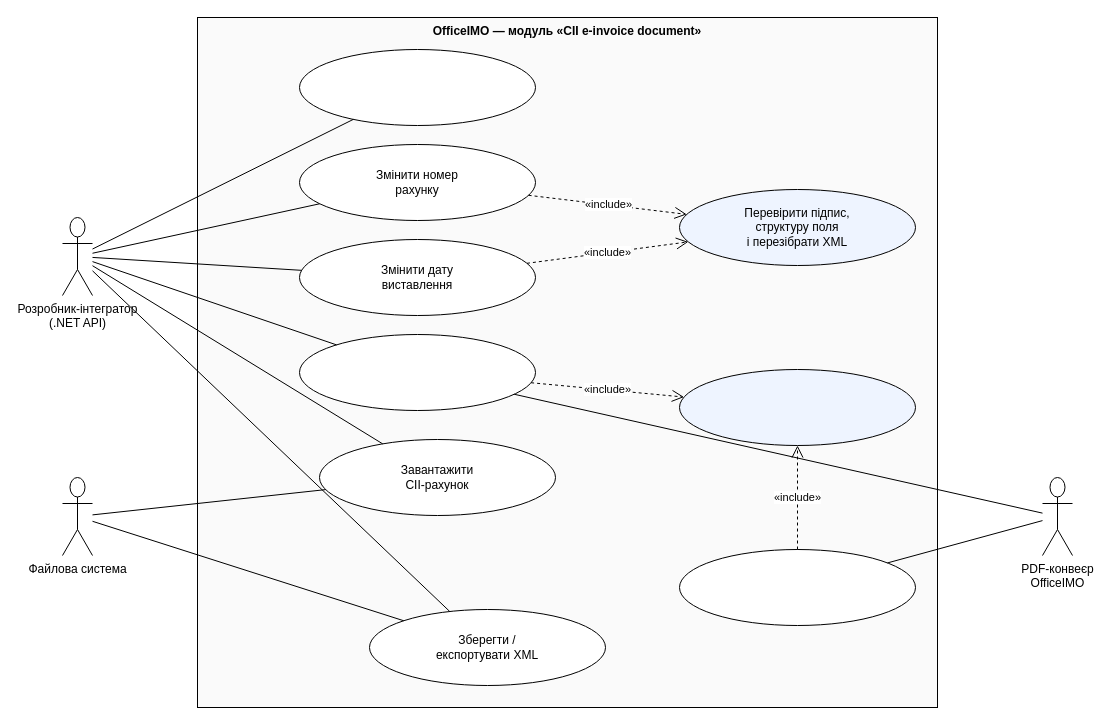
This 1110x725 diagram has some shape labels left out. The centre of each missing label's shape, as x and y in pixels:
Вбудувати рахунок у PDF як Factur-X: point 417,372
Визначити профіль і XMP ConformanceLevel: point 797,407
Перевірити відповідність Factur-X: point 797,587
Прочитати заголовок рахунку: point 417,87
